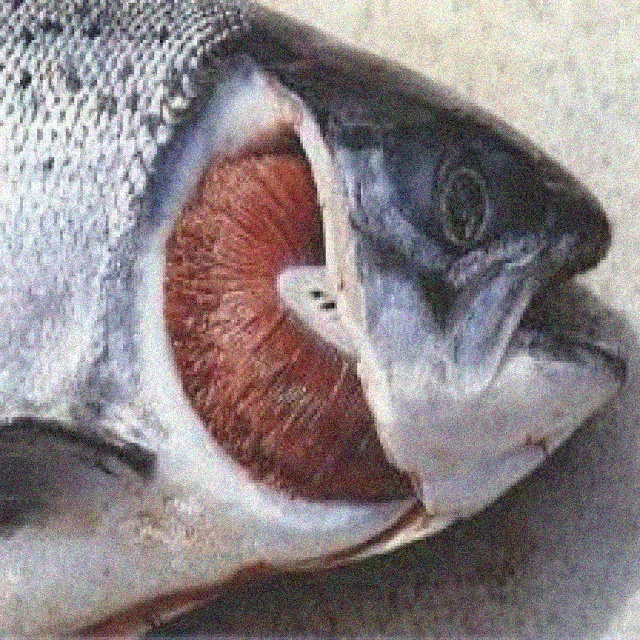Gill Disease: (9, 0, 624, 640)
